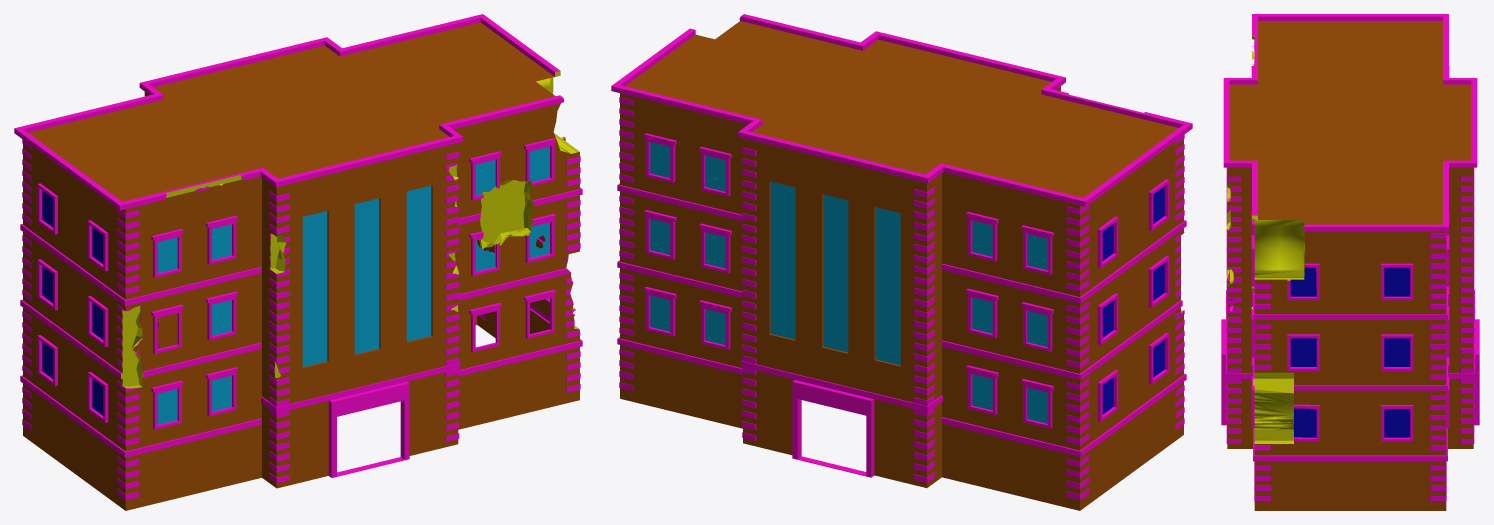
The model's file is Building_001.fbx.
3 renders of one model, left to right at view 1: azimuth 30°, elevation 25°; view 2: azimuth 150°, elevation 25°; view 3: azimuth 270°, elevation 25°, orthographic. The views are drawn at different scales.
Parts seen in each view (by area): view 1: Cube; view 2: Cube; view 3: Cube.
Boxes of the visible parts, x1,y1,x2,y2 form: Cube: [14, 14, 582, 510]; Cube: [611, 14, 1192, 510]; Cube: [1221, 14, 1479, 510].
Size of the model in its own units: 3094 by 1584 by 1944.
